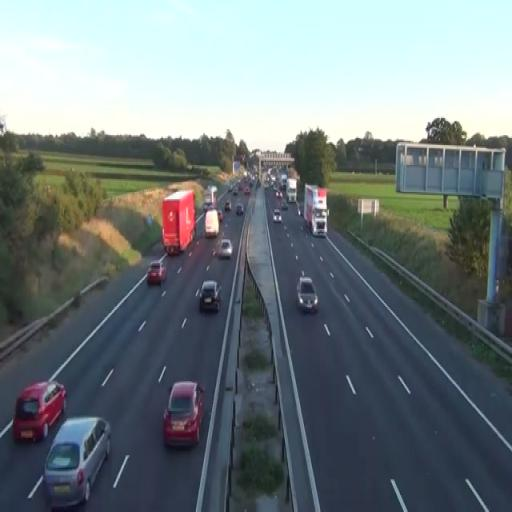Car: (43, 415, 112, 508), (12, 378, 67, 443), (162, 380, 205, 449), (296, 275, 319, 314), (199, 280, 222, 313), (146, 260, 166, 286), (218, 239, 232, 260)
Truck: (162, 189, 196, 256), (303, 184, 328, 237)
